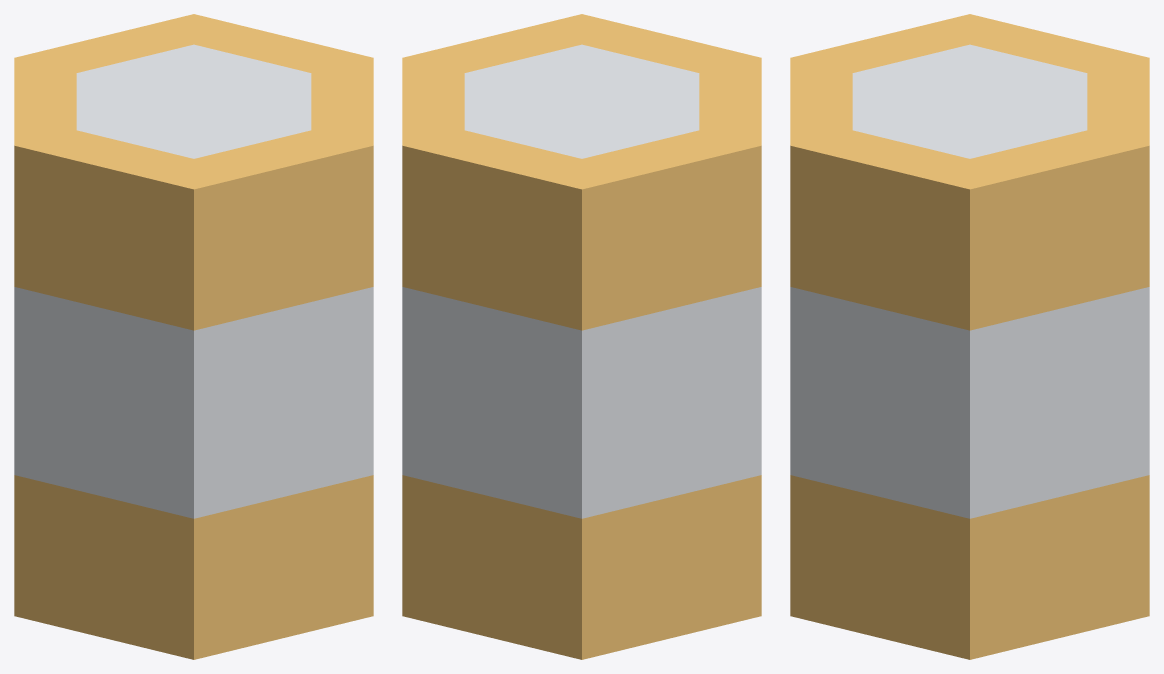
File: barrel.glb
3 renders of one model, left to right at view 1: azimuth 30°, elevation 25°; view 2: azimuth 150°, elevation 25°; view 3: azimuth 270°, elevation 25°, orthographic.
Visible parts, largest first — view 1: barrel; view 2: barrel; view 3: barrel.
Part boxes in pixels (x1,y1,x2,y2): barrel: [14, 14, 373, 659]; barrel: [402, 14, 761, 659]; barrel: [790, 14, 1149, 659].
Bounding box in the file's own units: 0.2 × 0.25 × 0.1732.
1 material, 1 textured.
